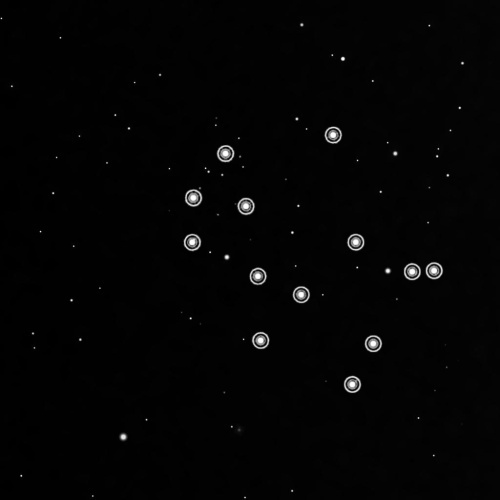gemini: (172, 118, 445, 399)
